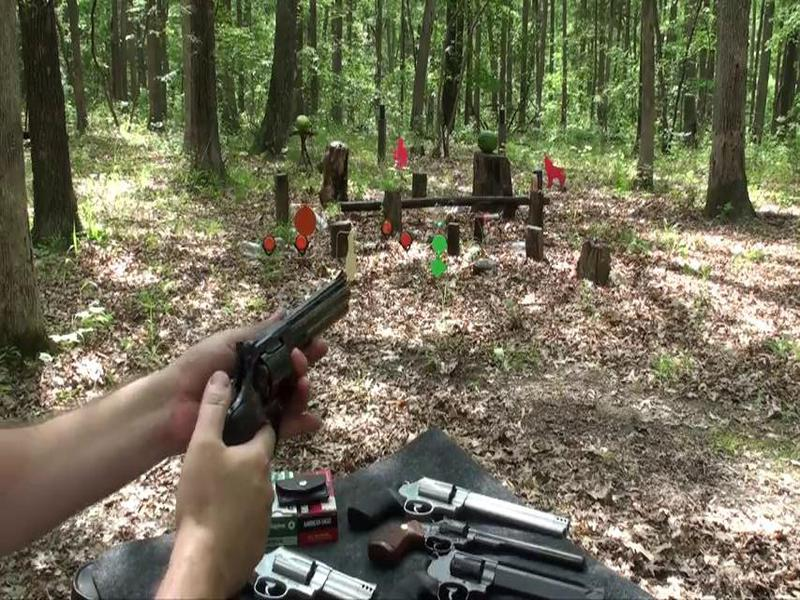Revolver: (177, 259, 373, 472)
